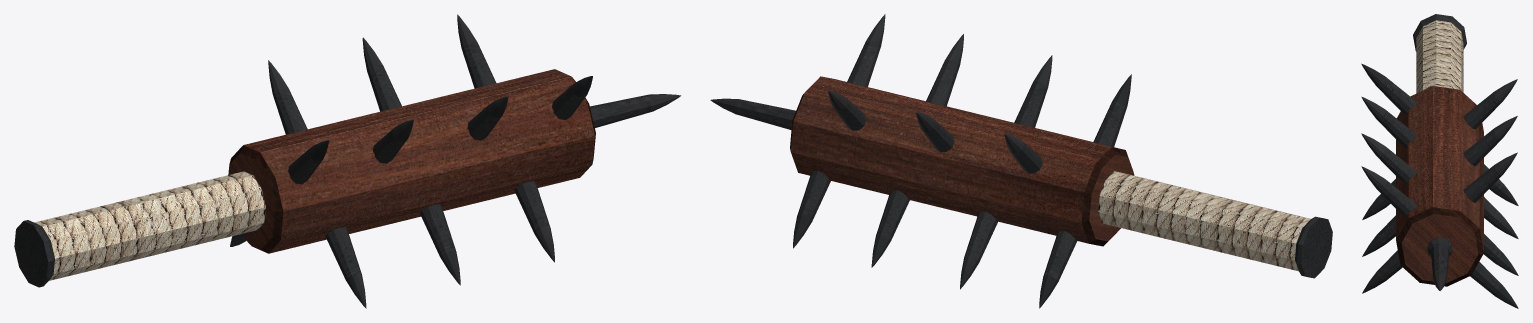
File: WorldItem_TrenchClub.fbx
3 renders of one model, left to right at view 1: azimuth 30°, elevation 25°; view 2: azimuth 150°, elevation 25°; view 3: azimuth 270°, elevation 25°, orthographic. The views are drawn at different scales.
Visible parts, largest first — view 1: ZomboidTrenchClub; view 2: ZomboidTrenchClub; view 3: ZomboidTrenchClub.
Part boxes in pixels (bbox=[...]): ZomboidTrenchClub: bbox=[14, 14, 680, 308]; ZomboidTrenchClub: bbox=[710, 14, 1332, 308]; ZomboidTrenchClub: bbox=[1361, 14, 1518, 308].
Size of the model in its own units: 0.3591 by 0.0946 by 0.0946.
